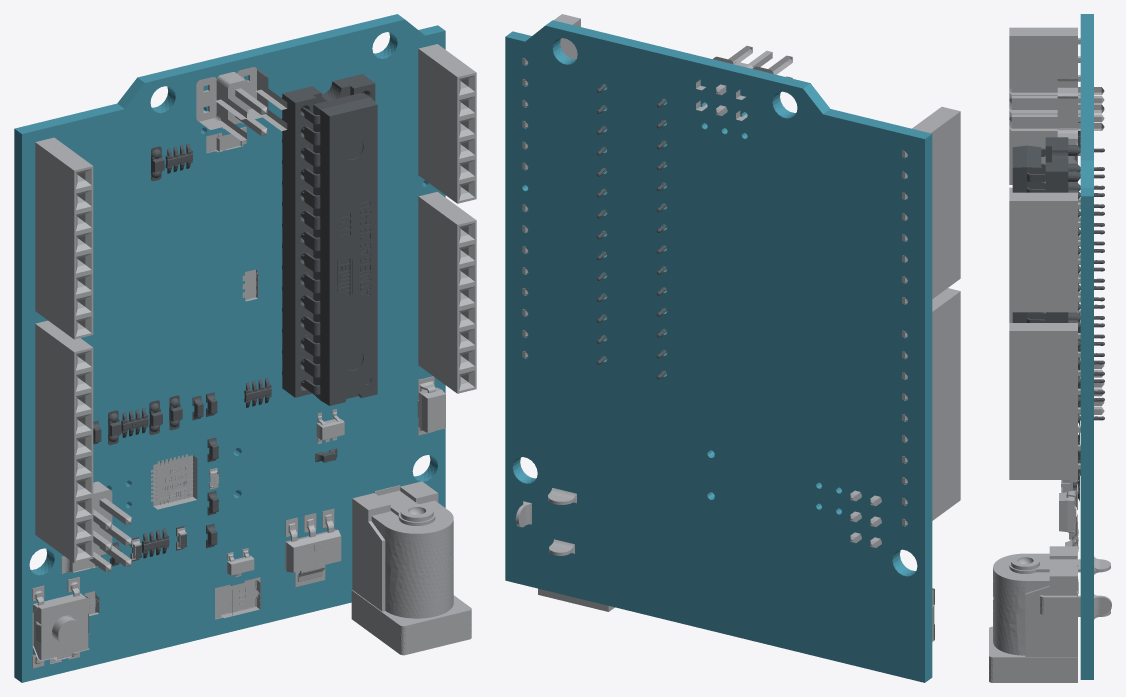
Rendered from arduino_uno_r3.glb.
3 views of the same model, side by side, from view 1: azimuth 30°, elevation 25°; view 2: azimuth 150°, elevation 25°; view 3: azimuth 270°, elevation 25° (orthographic). The views are drawn at different scales.
Visible parts, largest first — view 1: geometry_0; view 2: geometry_0; view 3: geometry_0.
Boxes of the visible parts, left/top/right/bottom form: geometry_0: left=14, top=14, right=476, bottom=682; geometry_0: left=505, top=14, right=960, bottom=682; geometry_0: left=989, top=14, right=1111, bottom=682.
Bounding box in the file's own units: 53.34 × 70.4 × 15.2.
